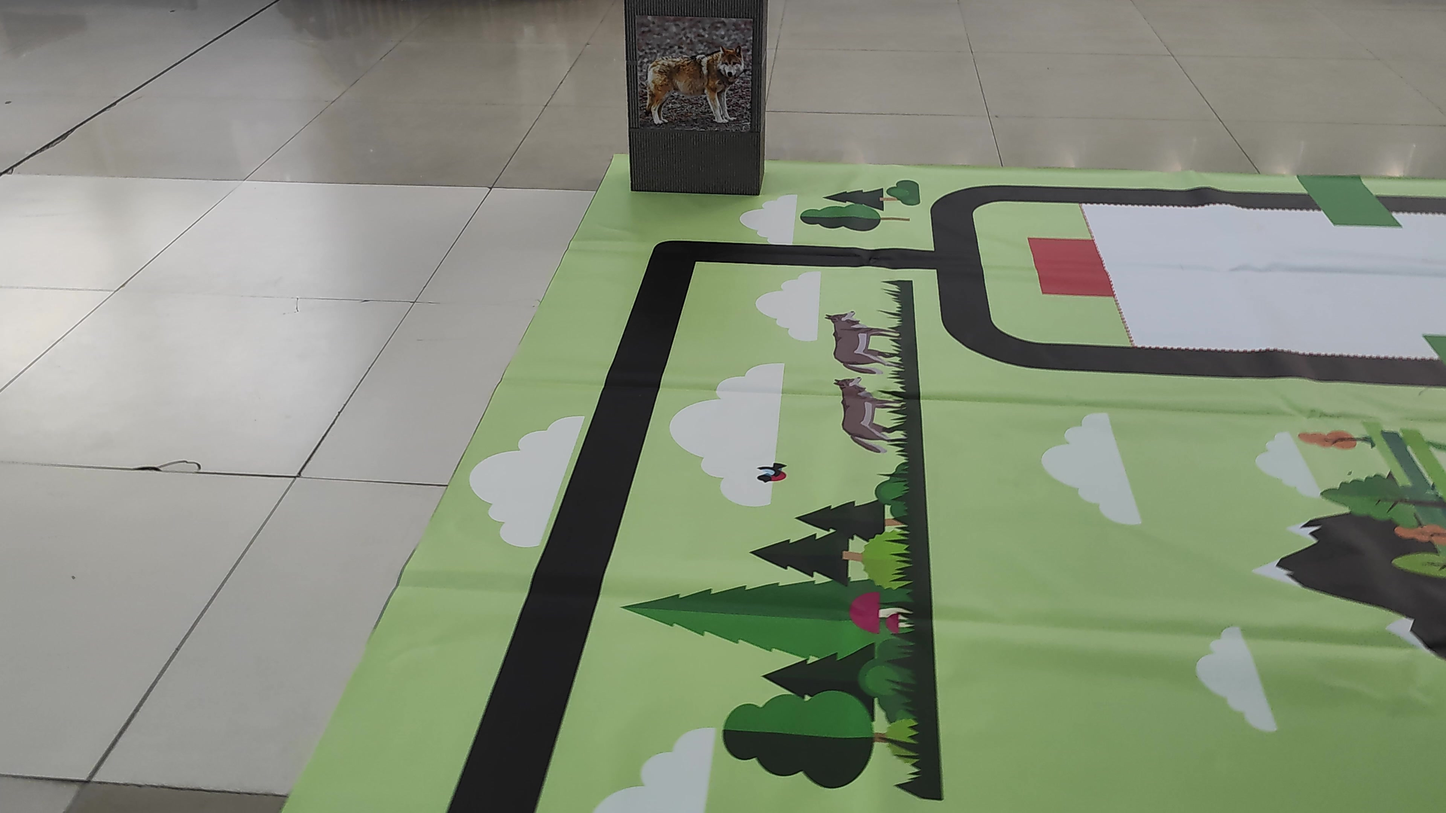wolf: (632, 9, 765, 126)
